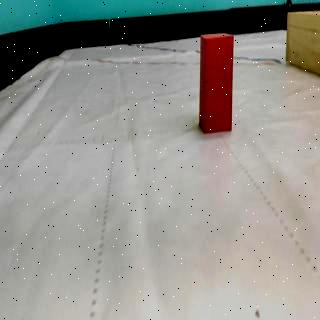redbox: (197, 32, 235, 134)
